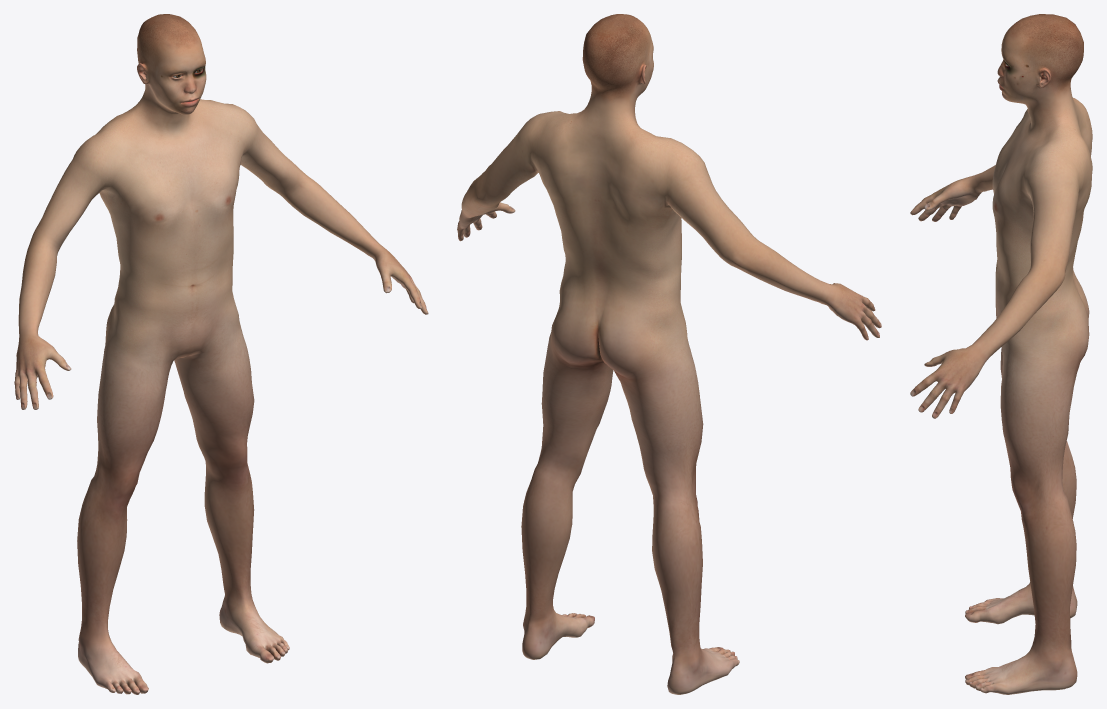
File: male-donor.glb
3 views of the same model, side by side, from view 1: azimuth 30°, elevation 25°; view 2: azimuth 150°, elevation 25°; view 3: azimuth 270°, elevation 25° (orthographic). The views are drawn at different scales.
Visible parts, largest first — view 1: male-native; view 2: male-native; view 3: male-native.
Boxes of the visible parts, bbox=[...] form: male-native: bbox=[14, 14, 428, 694]; male-native: bbox=[457, 14, 881, 694]; male-native: bbox=[910, 14, 1092, 694].
Bounding box in the file's own units: 1.19 × 1.78 × 0.4635.
2 materials, 2 textured.
